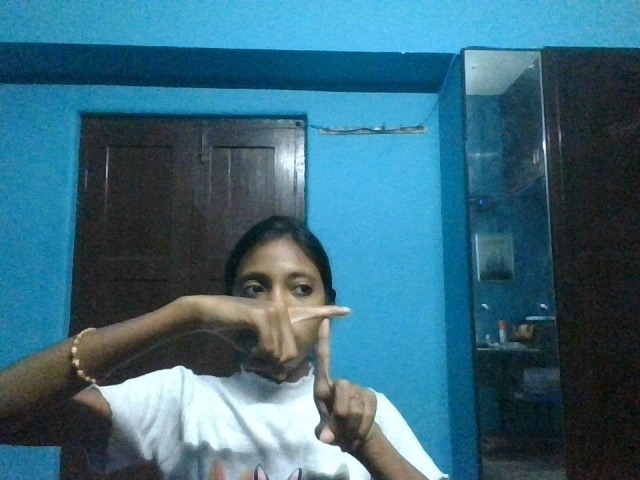T: (177, 291, 393, 465)
